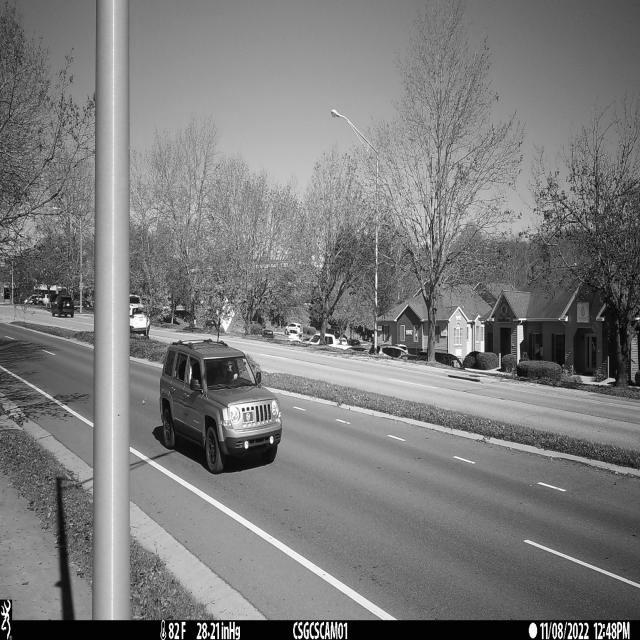SUV: (160, 338, 285, 473)
